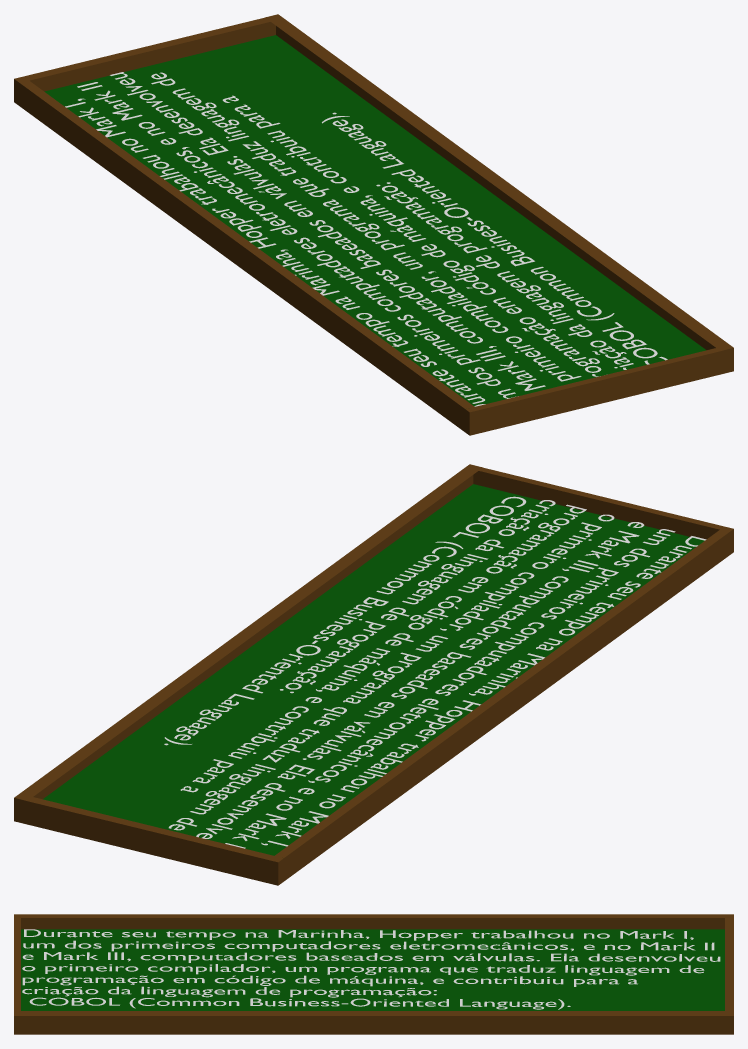
The model's file is Grace2.fbx.
3 renders of one model, top to bottom at view 1: azimuth 30°, elevation 25°; view 2: azimuth 150°, elevation 25°; view 3: azimuth 270°, elevation 25°, orthographic. The views are drawn at different scales.
Visible parts, largest first — view 1: Cube, Text; view 2: Cube, Text; view 3: Cube, Text.
Part boxes in pixels (x1,y1,x2,y2): Cube: (14,14,733,435); Text: (65,72,667,406); Cube: (14,464,733,885); Text: (164,496,706,848); Cube: (14,914,733,1034); Text: (22,929,720,1009).
Size of the model in its own units: 624 by 53.07 by 1865.
